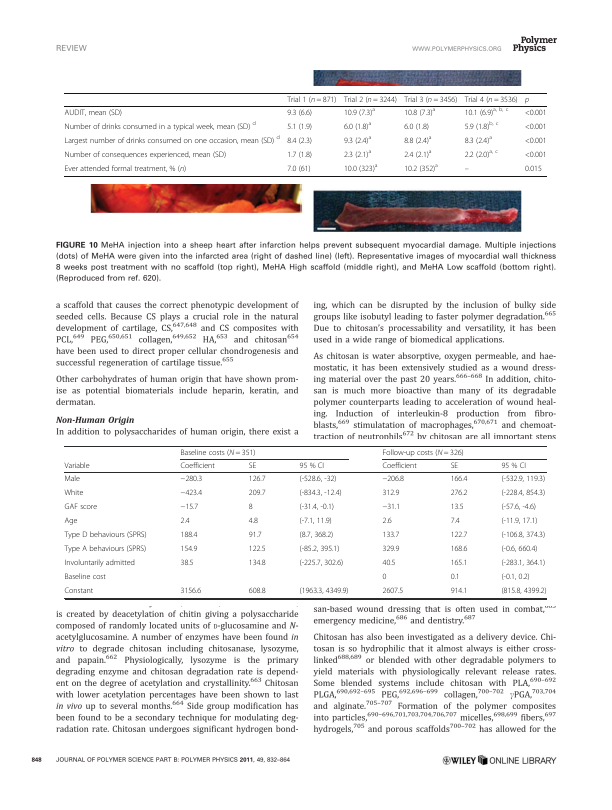borderless: (63, 444, 546, 598), (63, 91, 547, 176)
cell: (64, 134, 281, 146), (64, 120, 257, 132), (64, 150, 227, 160), (64, 164, 187, 174), (63, 530, 147, 540), (63, 544, 147, 554), (381, 448, 465, 457), (63, 558, 136, 568), (180, 448, 256, 457), (64, 108, 123, 118), (464, 106, 509, 118), (299, 586, 349, 596), (343, 95, 398, 104), (403, 95, 458, 104), (464, 95, 519, 104), (500, 586, 547, 596), (500, 474, 546, 484), (500, 488, 546, 498), (500, 530, 546, 540), (500, 558, 546, 568), (286, 95, 337, 104), (299, 558, 344, 568), (63, 572, 107, 582), (403, 162, 439, 174), (299, 488, 342, 498), (464, 120, 499, 132), (464, 148, 499, 160), (343, 162, 378, 174), (299, 544, 340, 554), (343, 106, 376, 118), (403, 106, 436, 118), (299, 474, 337, 484), (500, 516, 538, 526), (500, 544, 538, 554), (381, 461, 418, 471), (500, 502, 537, 512), (180, 461, 216, 471), (299, 502, 335, 512), (63, 502, 98, 512), (299, 530, 334, 540), (343, 120, 372, 132), (343, 134, 372, 146), (403, 134, 432, 146), (464, 134, 493, 146), (343, 148, 372, 160), (403, 148, 432, 160), (299, 516, 333, 526), (500, 572, 531, 582), (63, 586, 94, 596), (63, 461, 90, 471), (500, 461, 527, 471), (286, 108, 313, 118), (286, 122, 313, 132), (403, 122, 430, 132), (286, 136, 313, 146), (286, 150, 313, 160), (299, 461, 325, 471), (286, 164, 311, 174), (381, 474, 405, 484), (180, 474, 203, 484), (180, 488, 203, 498), (381, 586, 404, 596), (524, 108, 547, 118), (524, 122, 547, 132), (524, 136, 547, 146), (524, 150, 547, 160), (180, 586, 202, 596), (63, 488, 84, 498), (381, 502, 401, 512), (381, 488, 400, 498), (180, 502, 199, 512), (381, 530, 400, 540), (381, 544, 400, 554), (524, 164, 543, 174), (63, 474, 81, 484), (248, 474, 266, 484), (450, 474, 468, 484), (248, 488, 266, 498), (450, 488, 468, 498), (180, 530, 198, 540), (450, 530, 468, 540), (180, 544, 198, 554), (248, 544, 266, 554), (450, 544, 468, 554), (248, 558, 266, 568), (450, 558, 468, 568), (248, 586, 266, 596), (450, 586, 468, 596), (63, 516, 78, 526), (248, 530, 263, 540), (381, 558, 396, 568), (450, 502, 464, 512), (180, 558, 194, 568), (180, 516, 191, 526), (248, 516, 259, 526), (381, 516, 392, 526), (450, 516, 461, 526), (450, 572, 461, 582), (248, 461, 257, 471), (450, 461, 459, 471), (248, 502, 254, 512), (381, 572, 387, 582), (524, 97, 530, 104), (464, 168, 470, 172)
